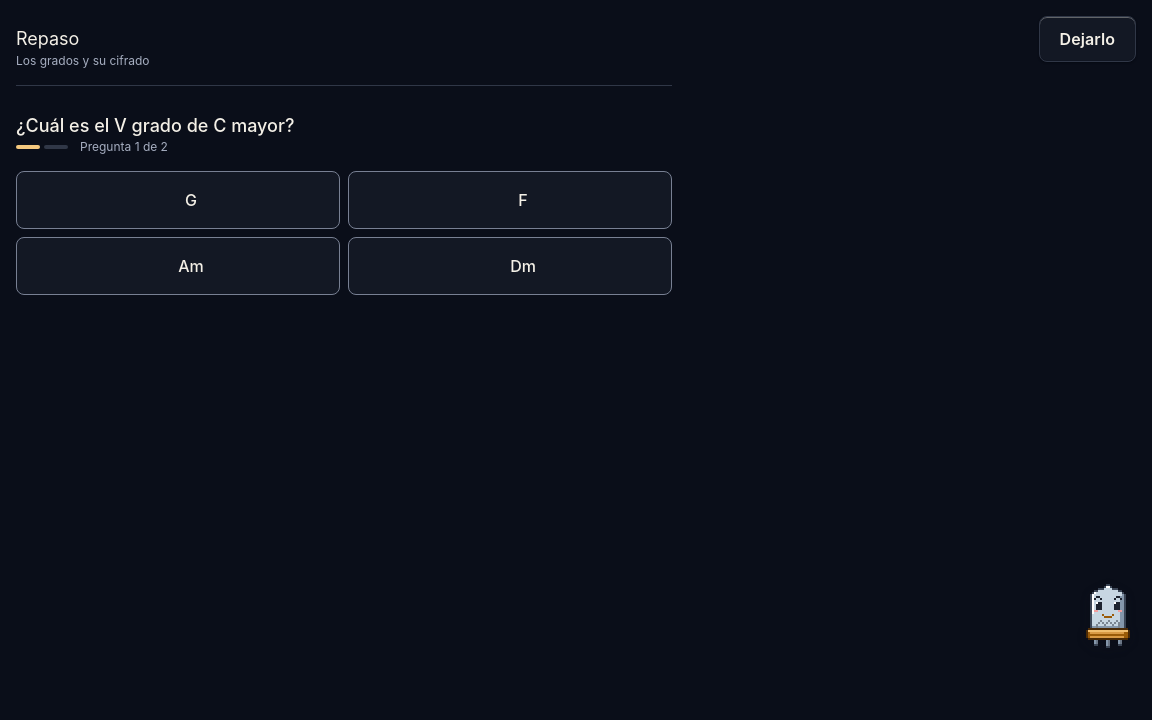
Test case: El repaso › pasa de una pregunta a la siguiente contando bien
Expected: the text "Pregunta 1 de 2" is shown, [80,139,168,155]
What coordinates should you click on to do the following:
click the button "G"
I would click on:
 (191, 200)
Its box is [16,171,340,229].
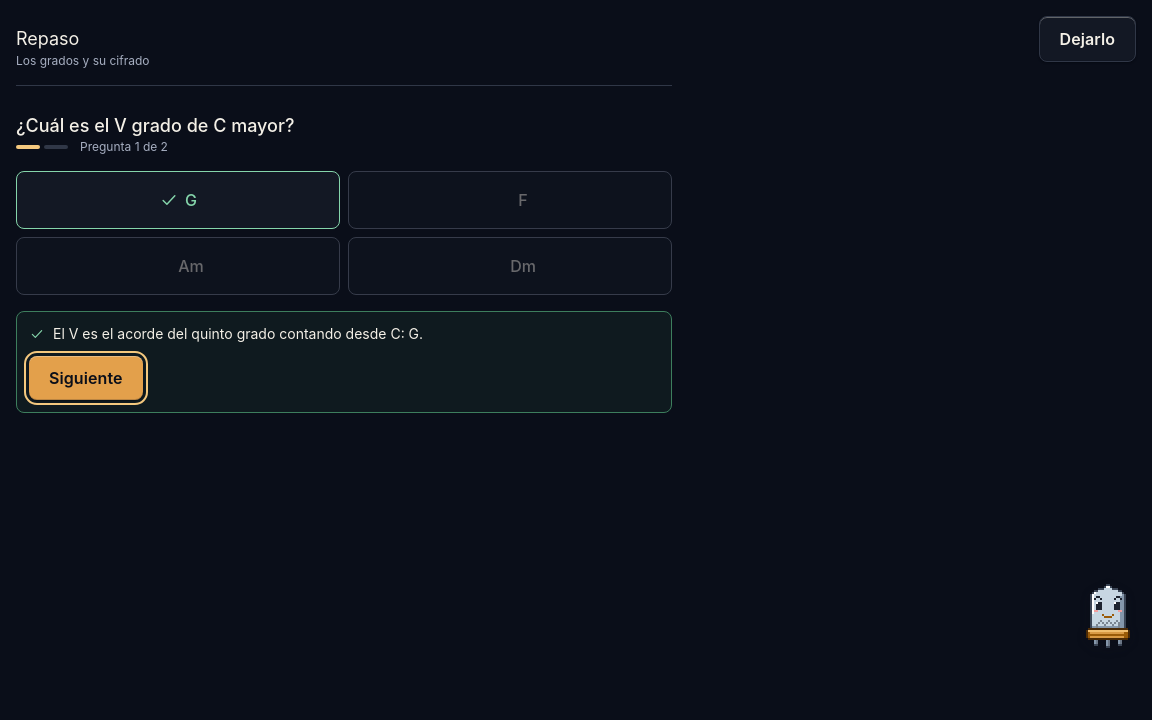
What coordinates should you click on to do the following:
click the button "Siguiente"
I would click on:
 (86, 378)
Its box is [29,356,142,400].
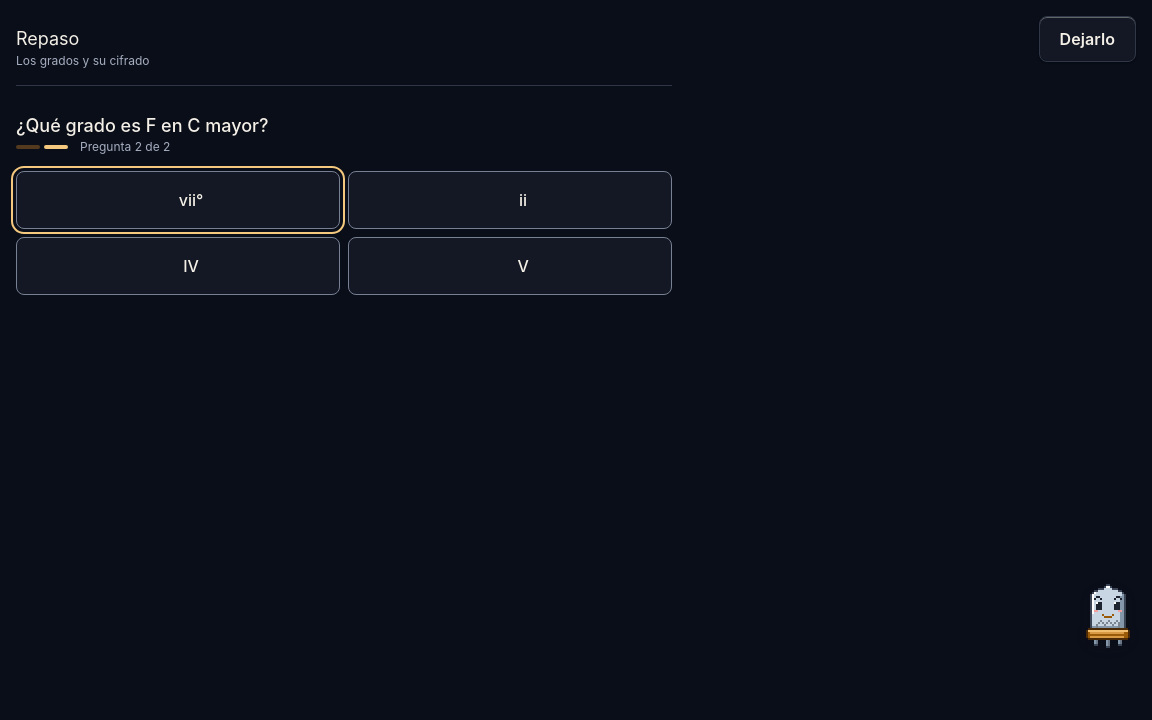
Expected: the text "Pregunta 2 de 2" is shown, [80,139,170,155]
